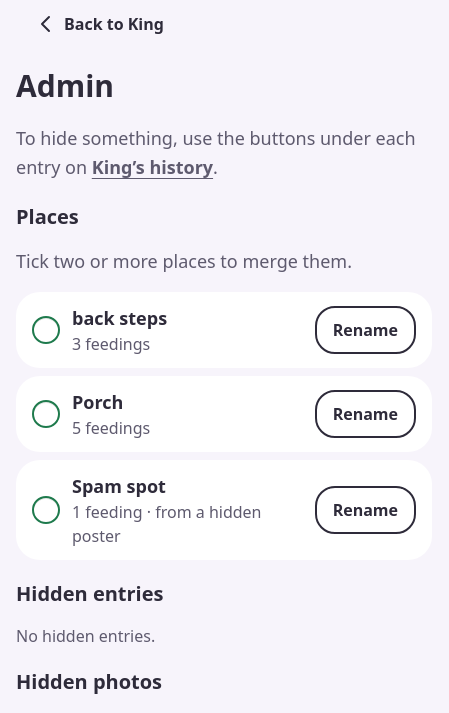
AdminPage — merging places › shows how many feedings each place has, and offers Merge once two or more are ticked
Expected: the list named "Places" is shown, [16, 292, 432, 560]
Expected: the text "Tick two or more places to merge them." is shown, [16, 248, 352, 272]
Click the checkbox named "Select Porch for merging": [46, 414] box [32, 400, 60, 428]
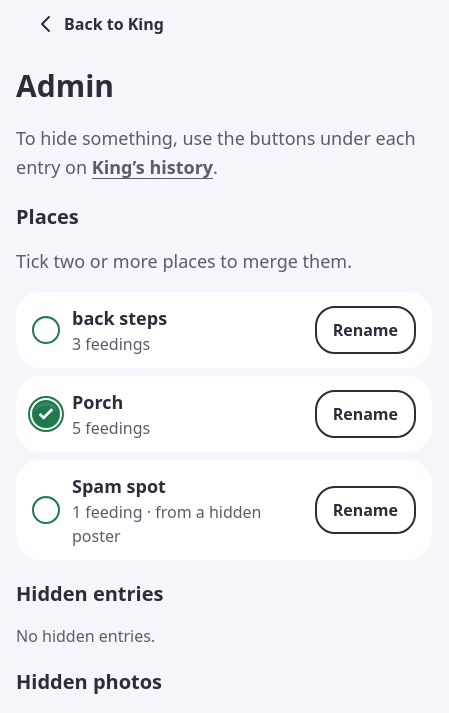
Click the checkbox named "Select back steps for merging": [46, 330] box [32, 316, 60, 344]
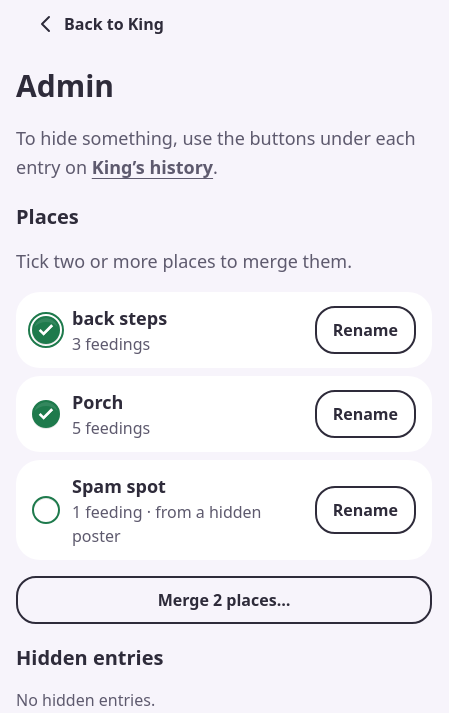
Expected: the button "Merge 2 places…" is shown, [16, 576, 432, 624]
